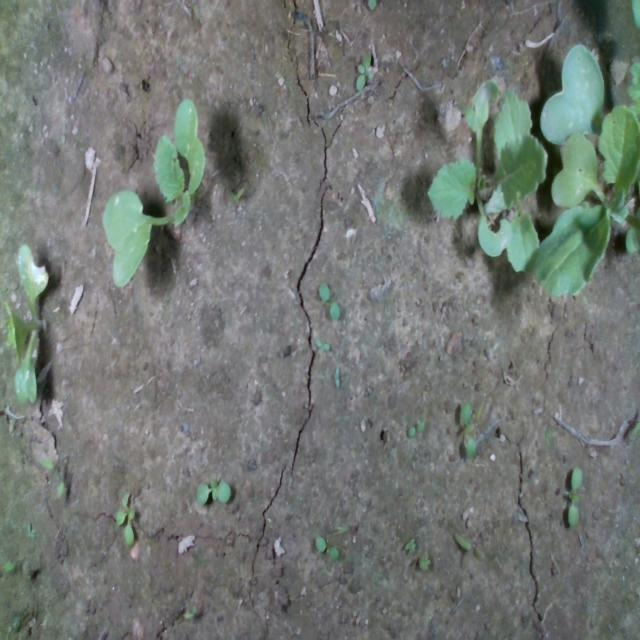weed: (112, 489, 136, 547), (195, 474, 231, 506), (566, 464, 583, 527), (453, 530, 485, 562), (317, 280, 341, 321), (314, 532, 339, 561), (355, 47, 371, 91), (406, 419, 425, 437), (314, 336, 331, 354), (332, 362, 340, 388), (26, 522, 36, 542)
